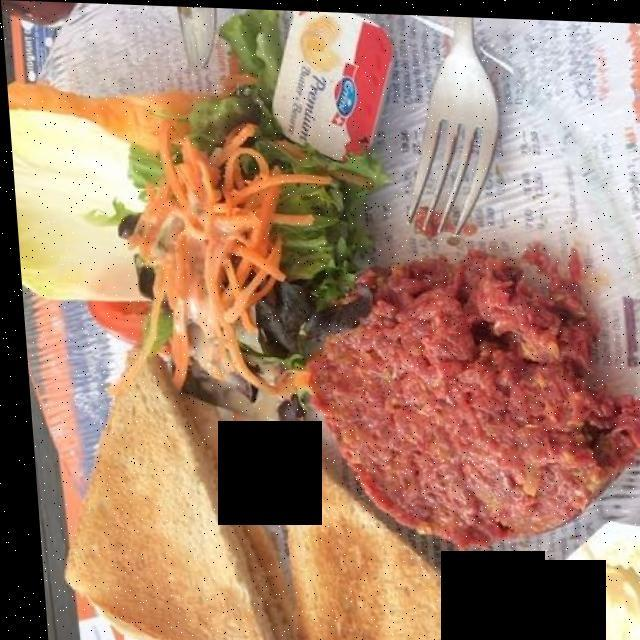bread: (54, 378, 519, 635)
butter: (272, 31, 640, 640)
carrot: (123, 136, 317, 372)
salad: (106, 22, 385, 407)
tartar-meat: (292, 242, 640, 546)
